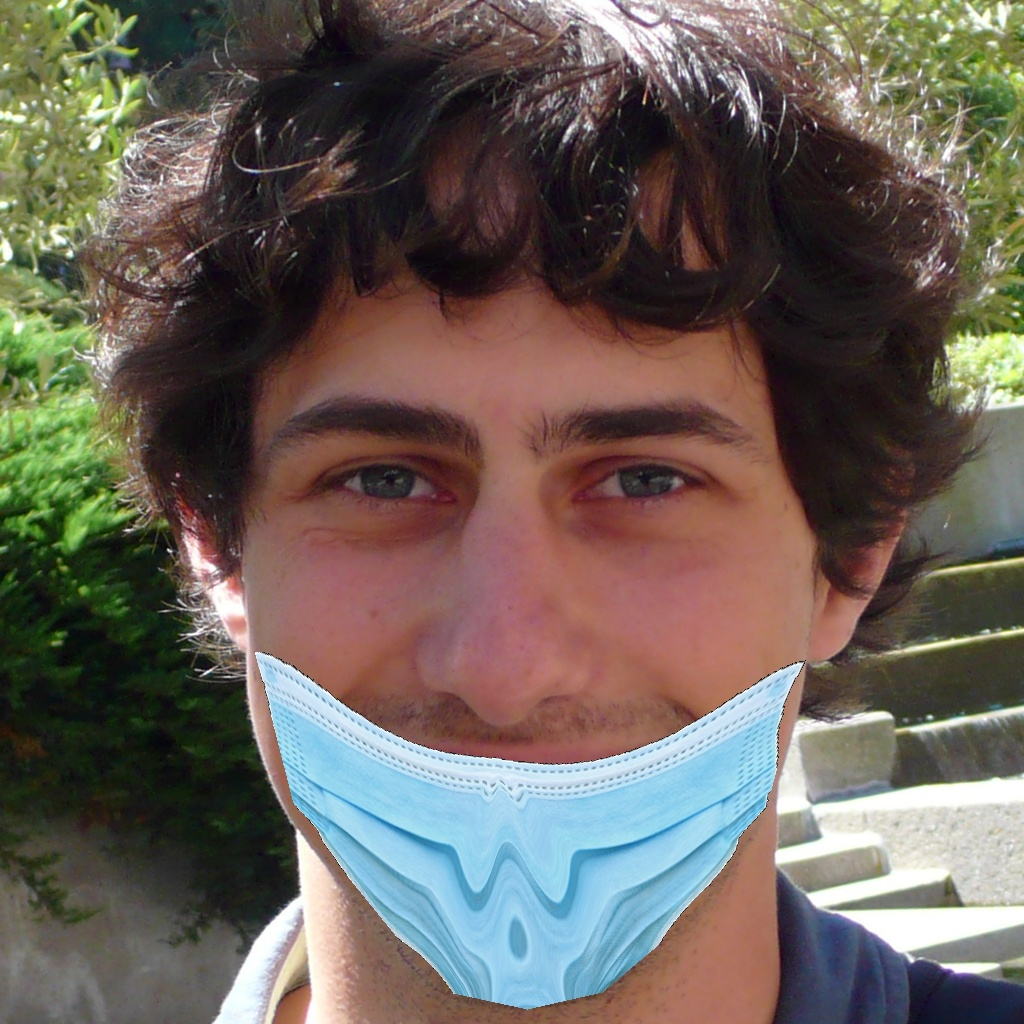mask_weared_incorrect: (212, 392, 867, 1016)
